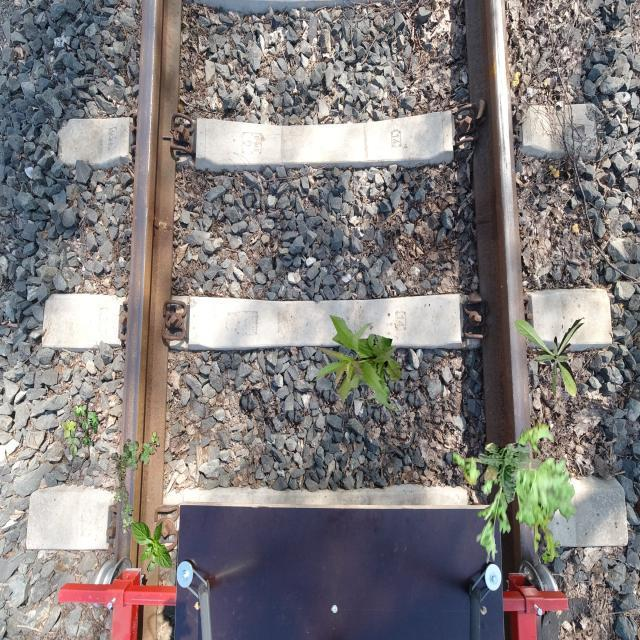Plant: (453, 417, 578, 564), (313, 315, 402, 412), (514, 318, 586, 399), (112, 431, 160, 534), (478, 443, 542, 505), (131, 520, 172, 574), (62, 402, 100, 457), (545, 478, 566, 503), (541, 540, 560, 564)
